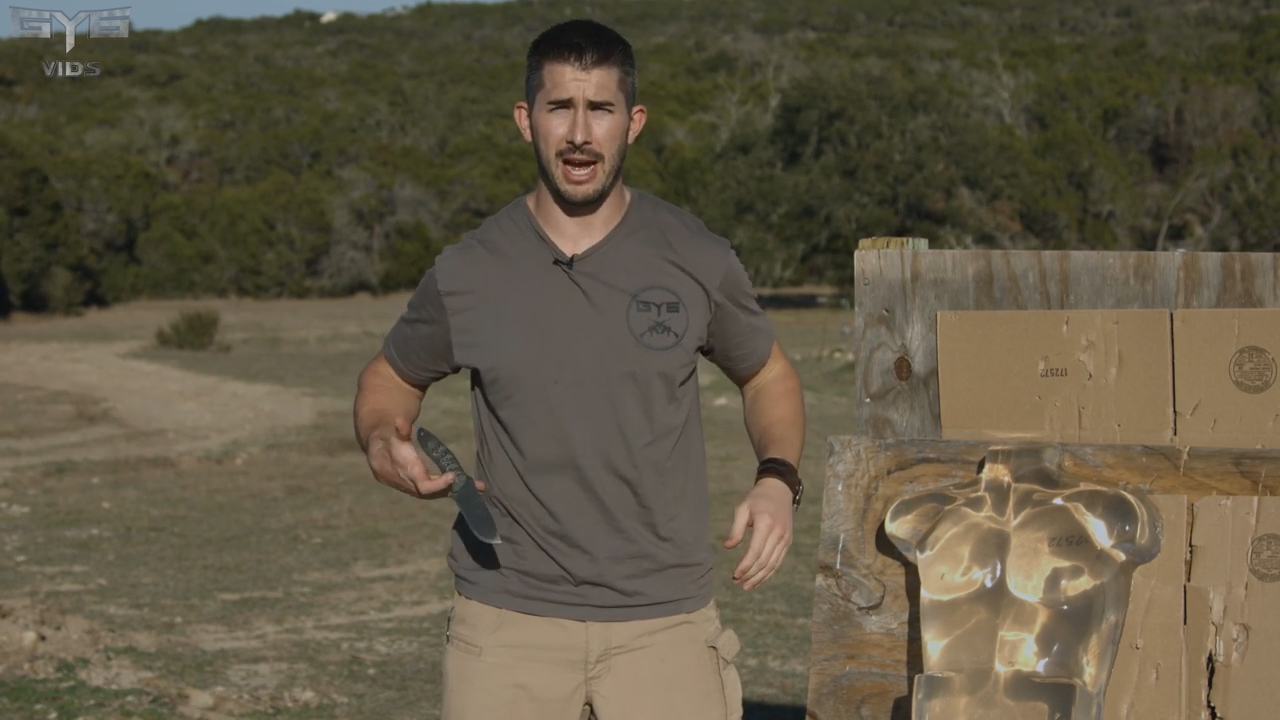knife: (384, 427, 511, 555)
